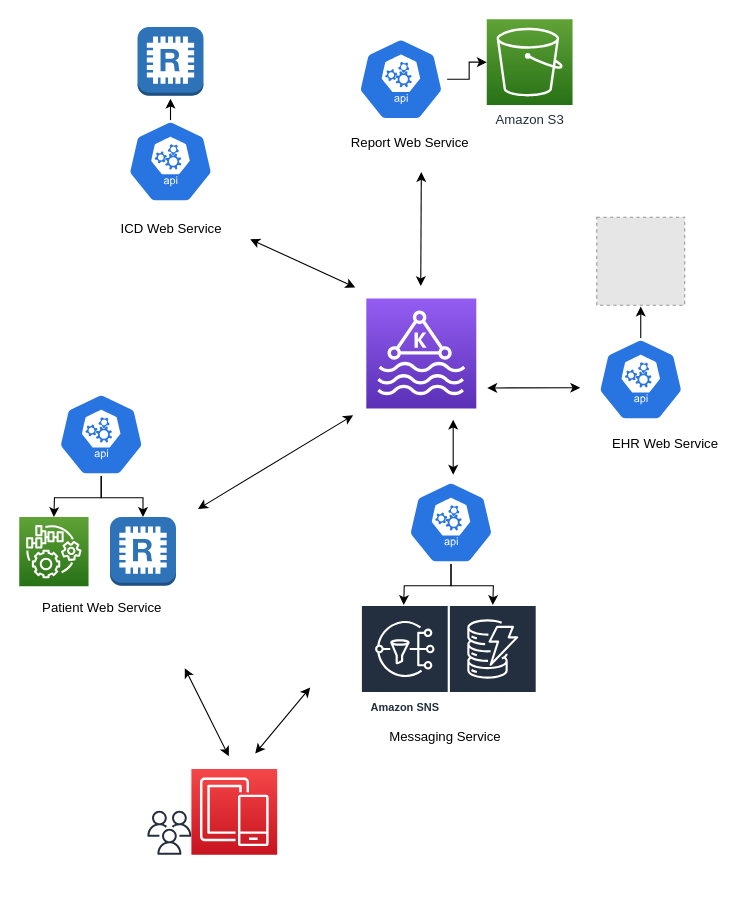
The diagram is 745 pixels wide and 897 high, and some of its shapes have lost their labels. Grey dashed boxes stand in for pictures. The shapes that lost their labels are listed below. From the top down, each one's box as (x1, y1, x2, y2) in pixels, then its label:
(448, 604, 537, 726): Amazon DynamoDB
(147, 810, 191, 854): Users
